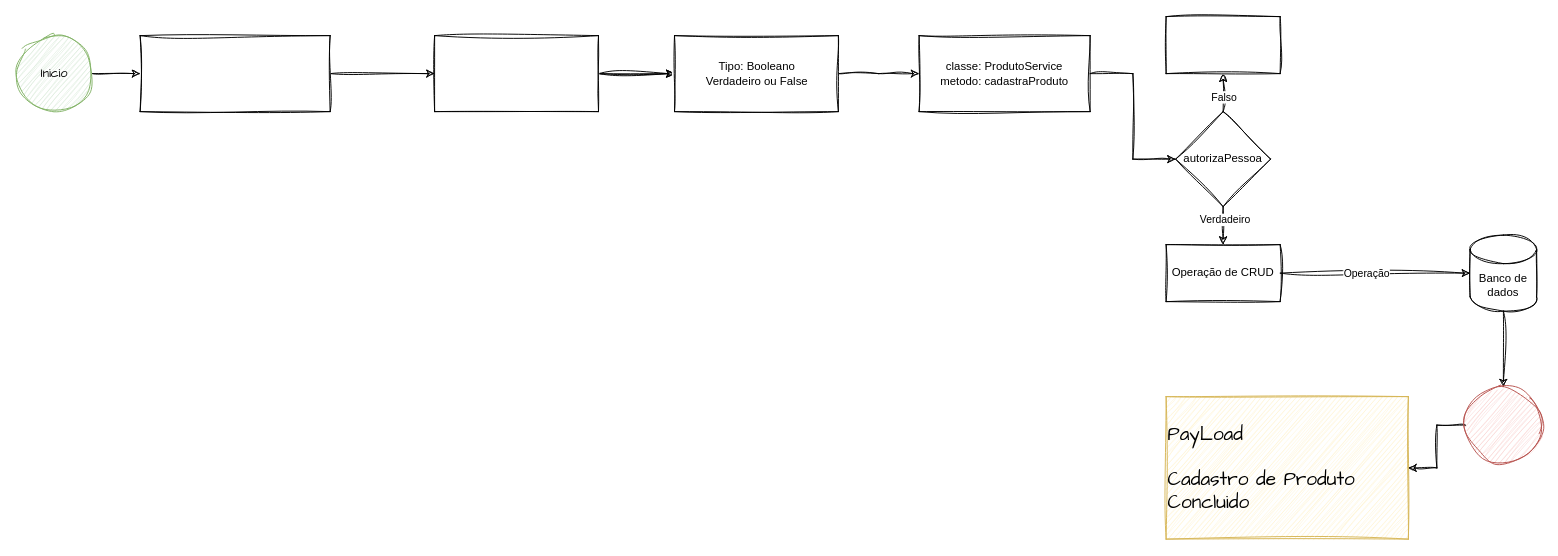
Image size: 1558x556. Some labels were removed from this diagram. Each missing label, with the box of its shape:
classe: AutorizacaoPessoa metodo: autorizaPessoas: (434, 35, 598, 112)
classe: ProdutoService.java método: cadastraProduto: (139, 35, 330, 112)
Fim: (1464, 386, 1541, 463)
Voce não está autorizado: (1165, 16, 1280, 74)
